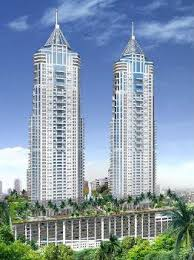Sky Building: (24, 8, 92, 218), (104, 22, 166, 230)
